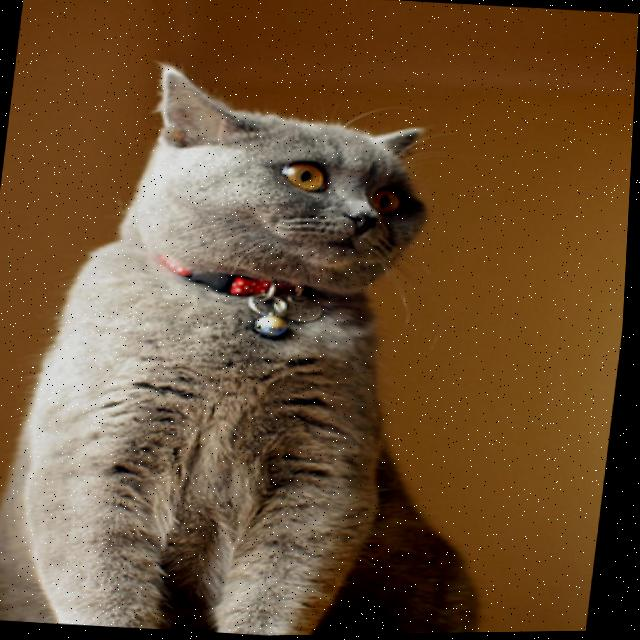British Shorthair: (0, 38, 555, 640)
